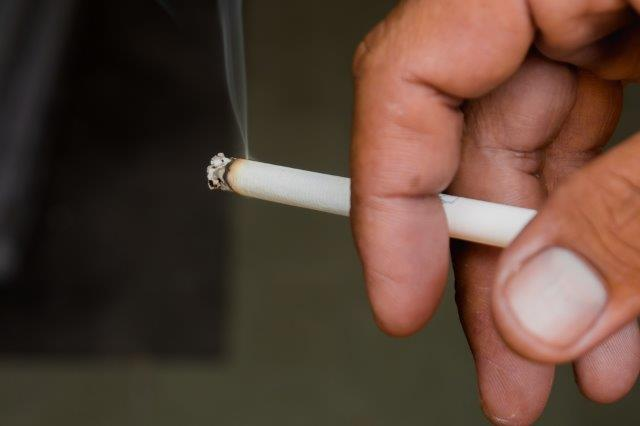cigarette: (193, 139, 567, 268)
